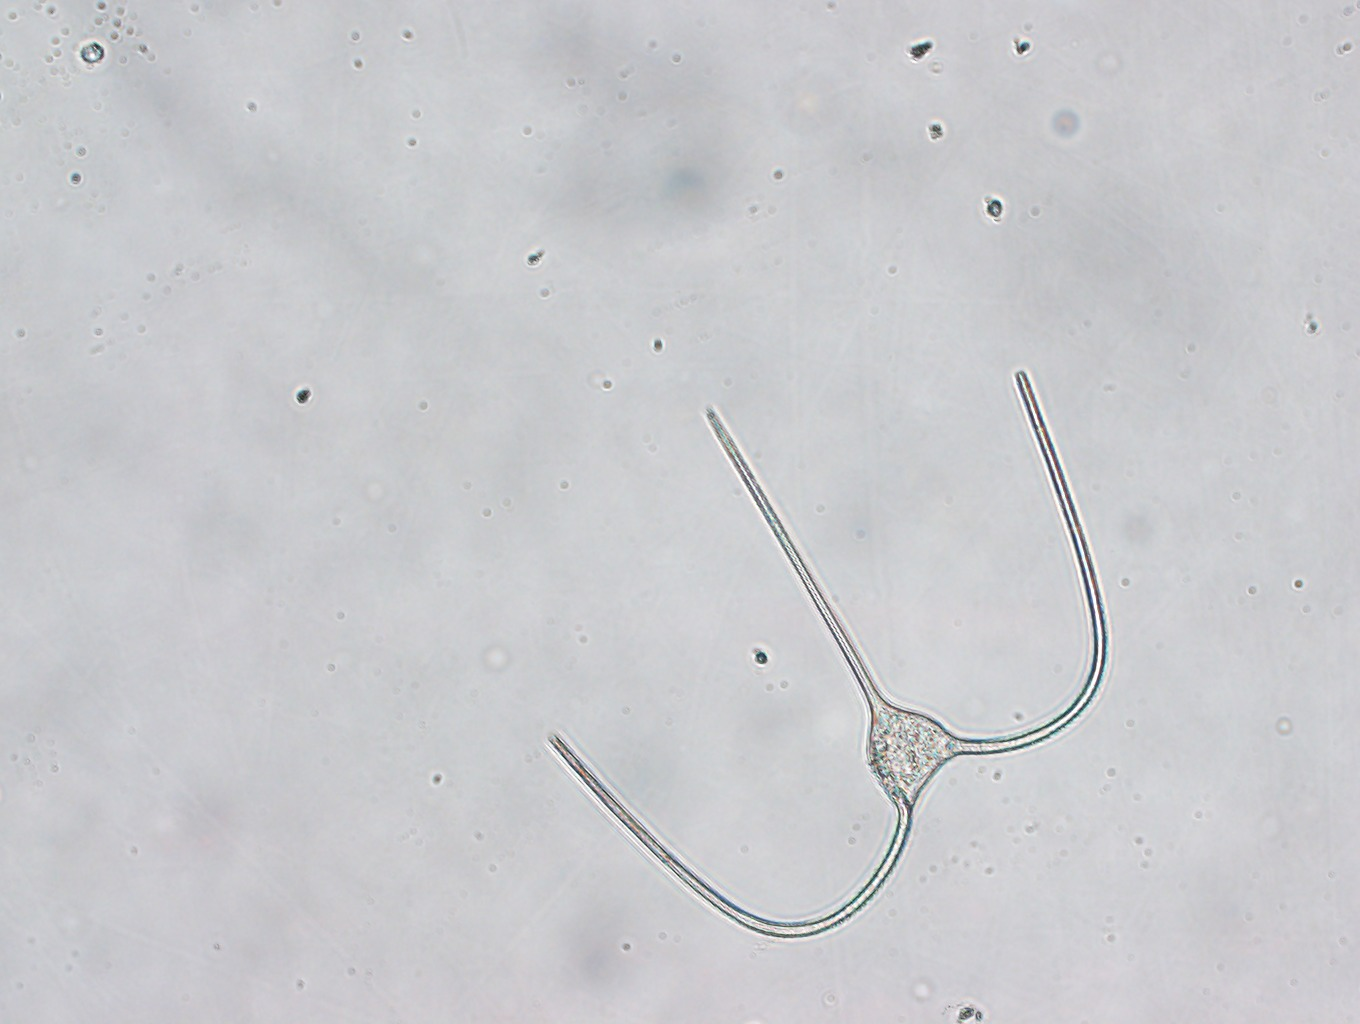ceratium trichoceros: (544, 370, 1108, 937)
